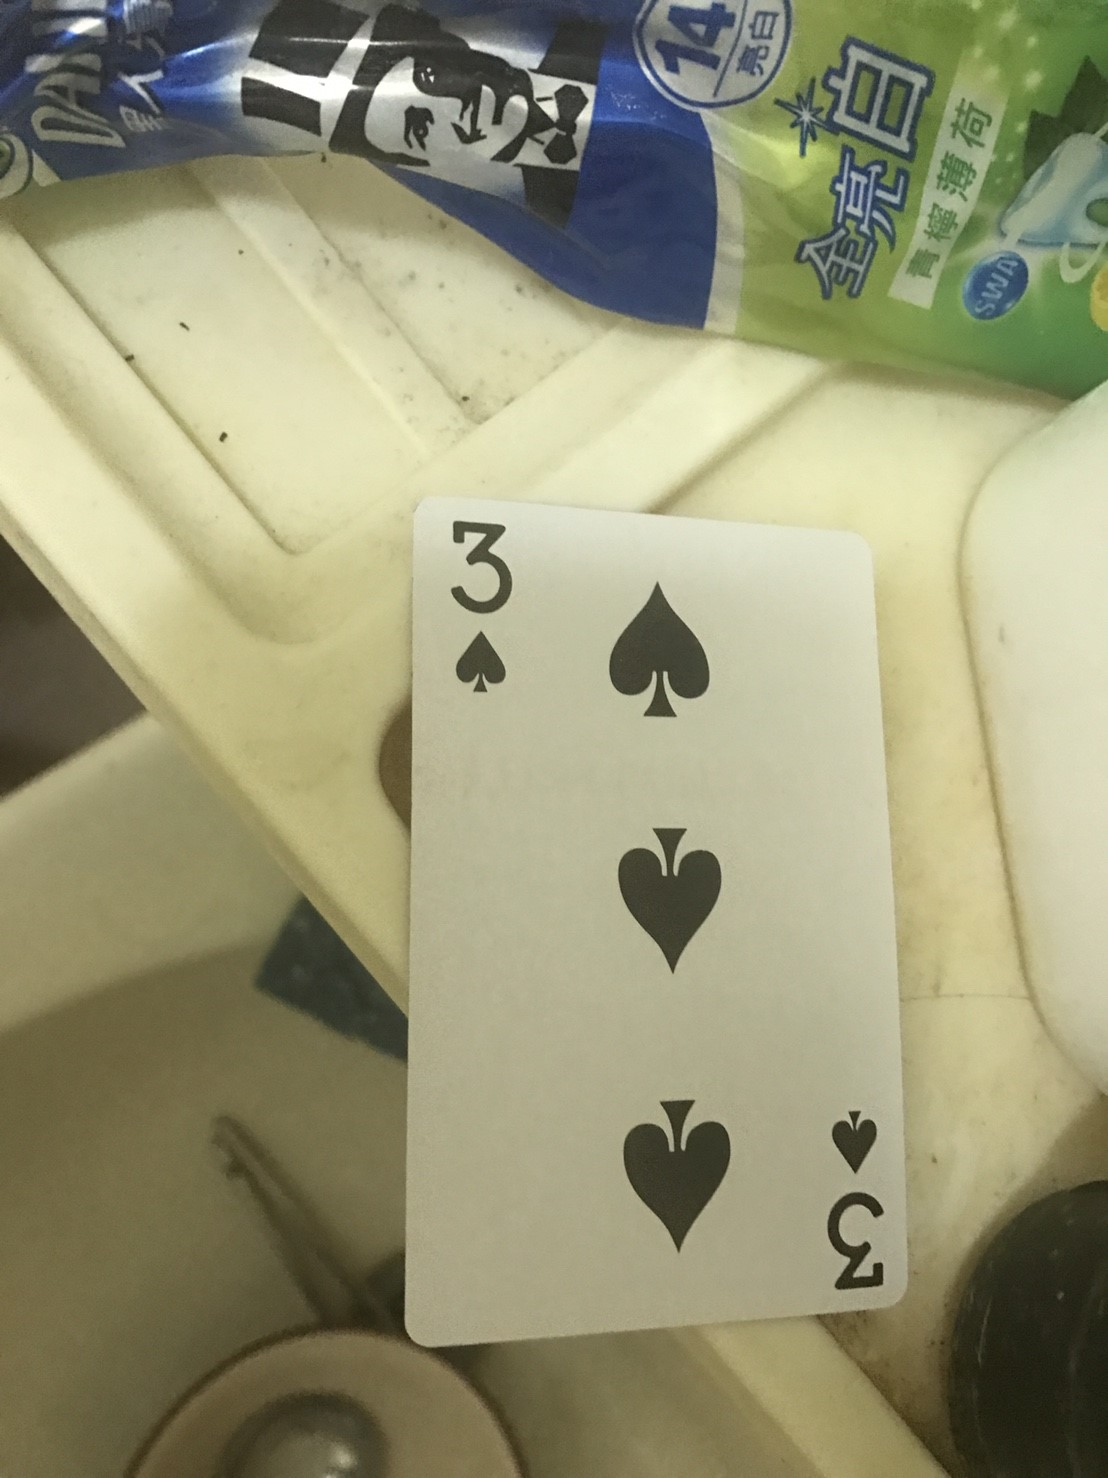spades: (622, 1095, 738, 1250), (619, 826, 725, 978), (608, 576, 715, 722), (453, 628, 513, 697), (829, 1106, 885, 1177)
